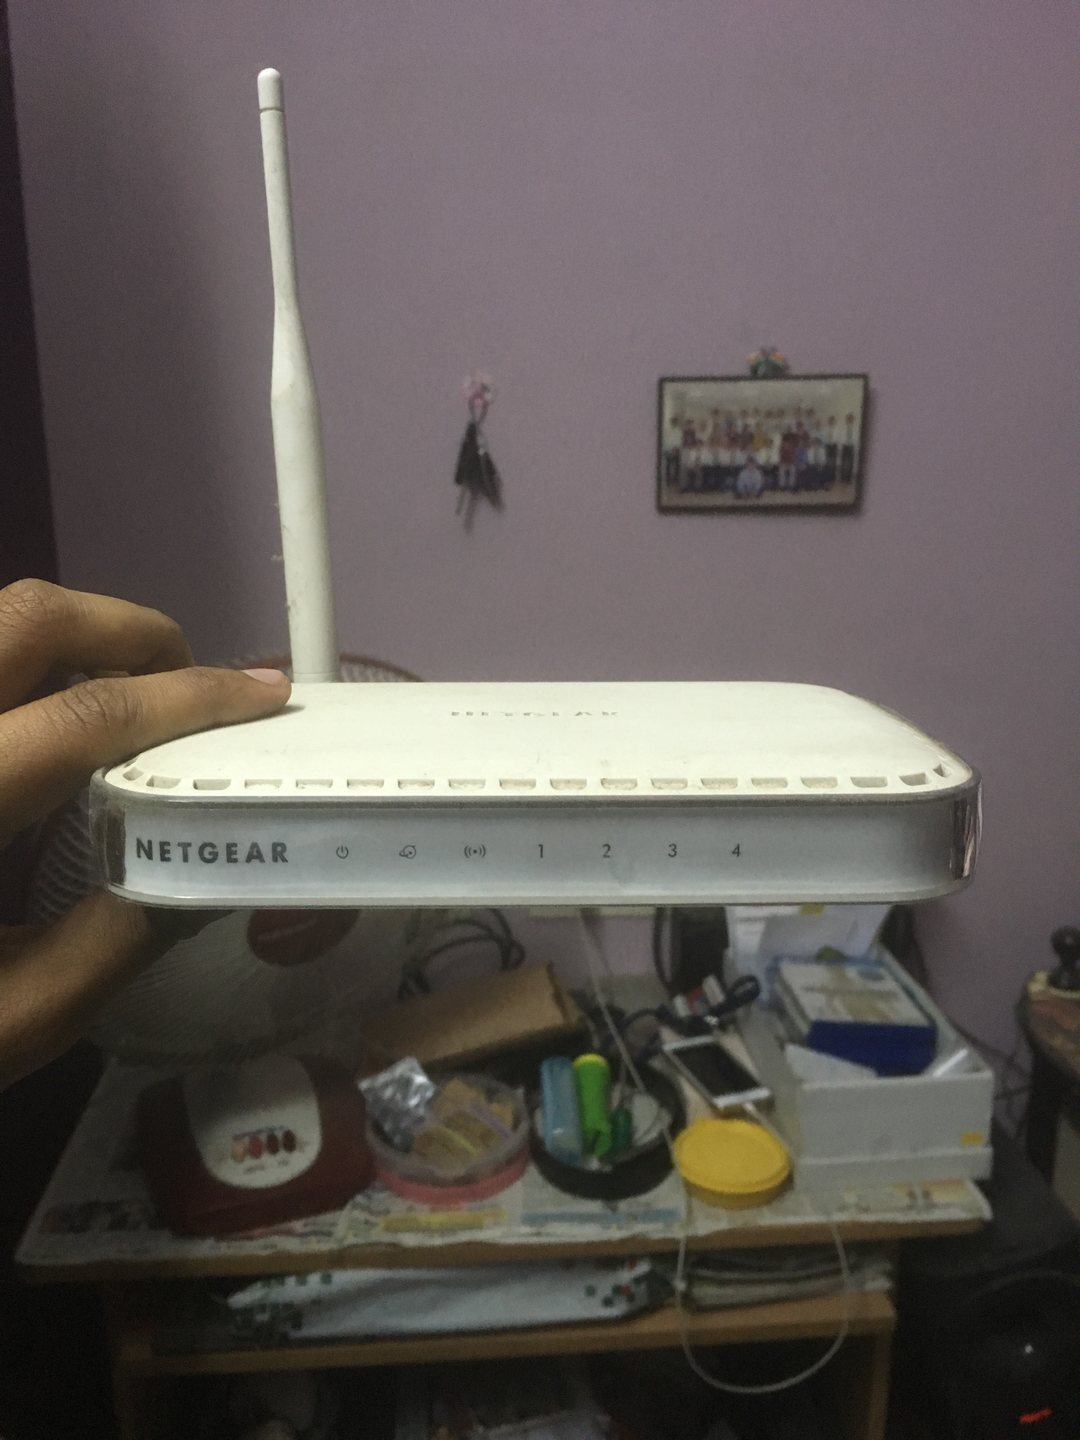NETGEAR: (129, 830, 294, 873)
modem: (94, 780, 994, 906)
